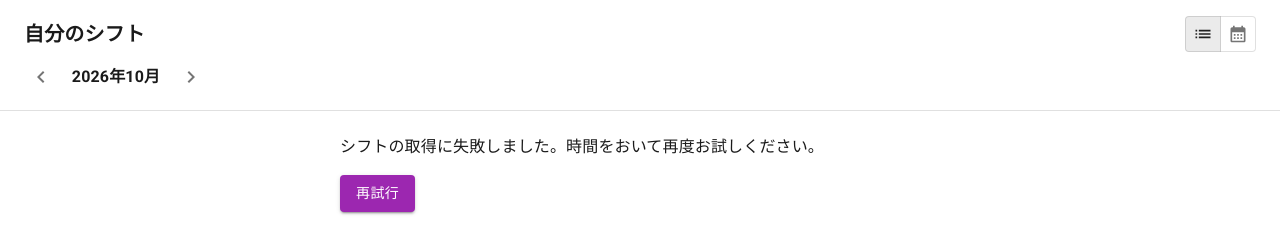
Test: MyShiftsPage action states › shows only a generic error for a rejection and allows retry: Minified React error #441
This screenshot has width=1280, height=232.
Check: the message reads "シフトの取得に失敗しました。時間をおいて再度お試しください。", box x1=340 y1=137 x2=824 y2=156
Check: the text "この月のシフトはありません" is not shown
Click the button "再試行" at (378, 193), box x1=340 y1=175 x2=415 y2=212
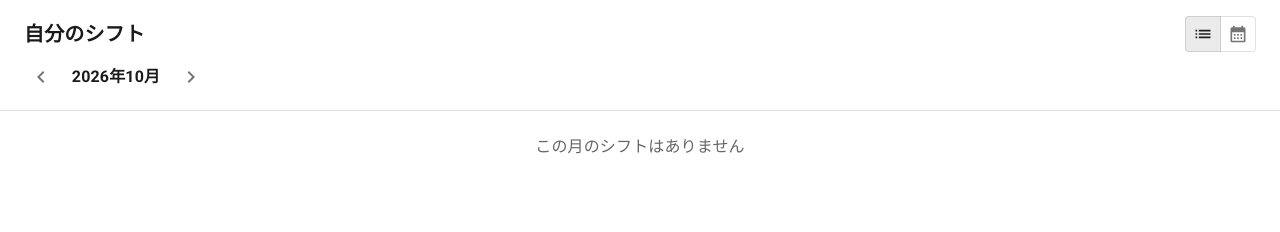
Check: the text "この月のシフトはありません" is shown, box x1=535 y1=137 x2=745 y2=156
Check: the message "シフトの取得に失敗しました。時間をおいて再度お試しください。" is gone
